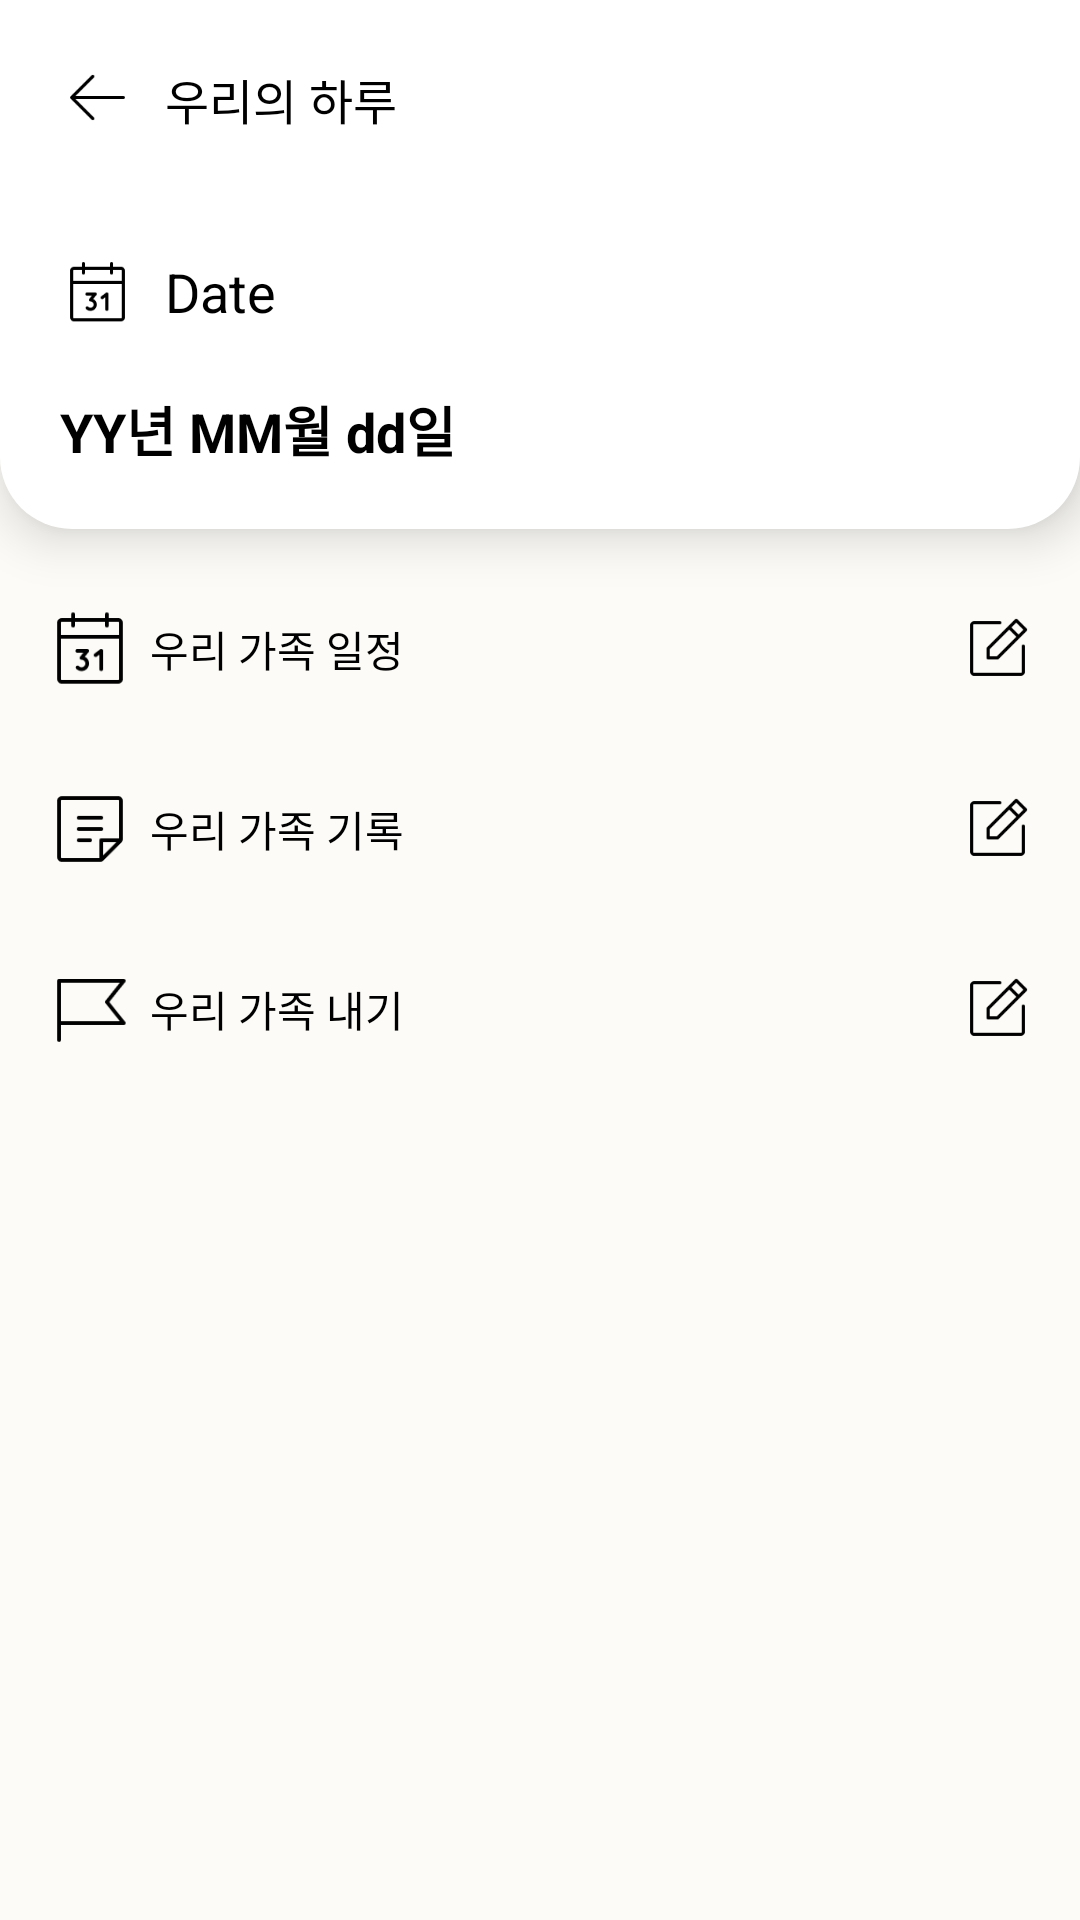

Icon click points for this 1080w x 1920h phone screenshot, format point (x, y):
back: point (97, 97)
schedule: point (97, 292), point (90, 648)
writing: point (998, 647), point (998, 827), point (998, 1007)
